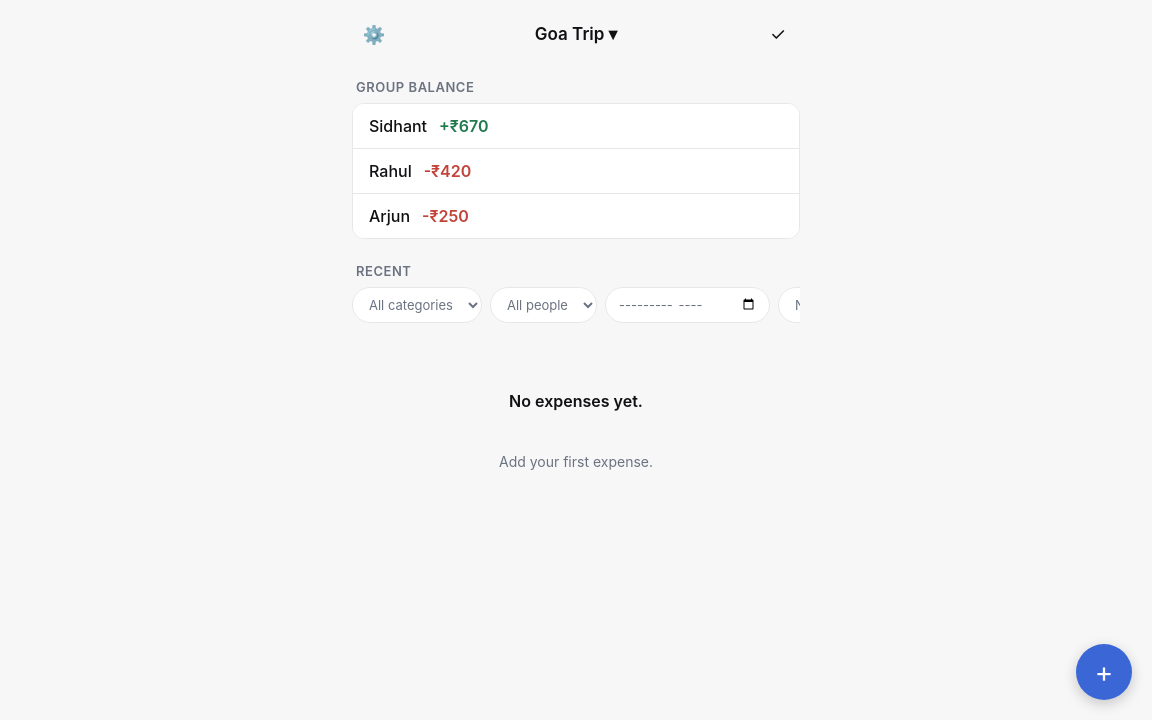
it: HomeScreen › opens the group selector when the group name is tapped
Step 1. Click the button "Goa Trip ▾" → (576, 34), box [404,24,748,44]
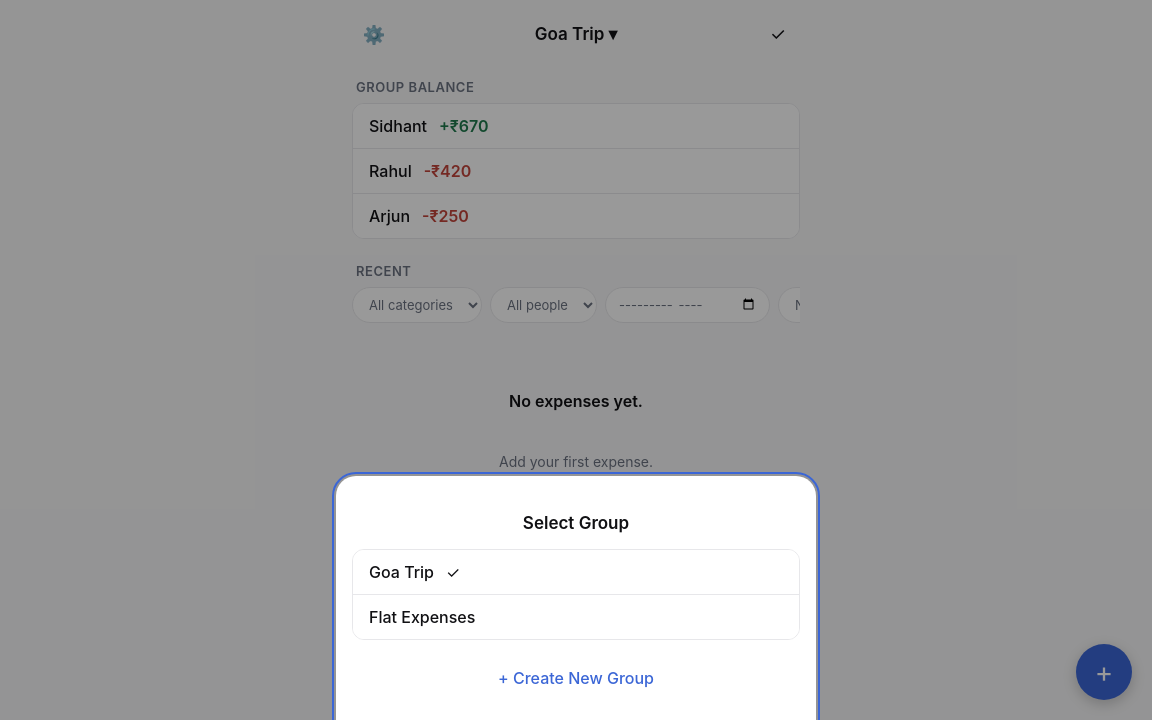
Result: the text "Flat Expenses" is shown at [369,607,475,627]
